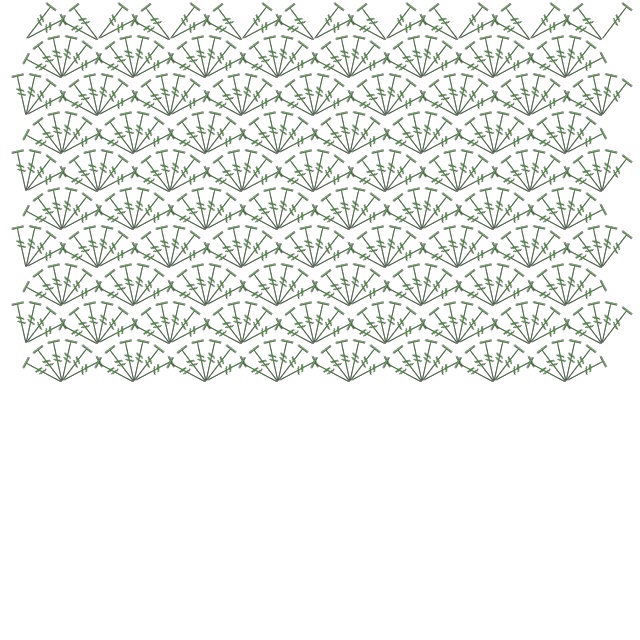fan: (21, 1, 59, 45), (67, 1, 105, 45), (93, 1, 131, 45), (139, 1, 177, 45), (165, 1, 203, 45), (211, 1, 249, 45), (237, 1, 275, 45), (283, 1, 321, 45), (309, 1, 347, 45), (355, 1, 393, 45), (381, 1, 419, 45), (427, 1, 465, 45), (453, 1, 491, 45), (499, 1, 537, 45), (525, 1, 563, 45), (571, 1, 609, 45), (597, 1, 635, 45), (31, 39, 69, 83), (57, 39, 95, 83), (103, 39, 141, 83), (129, 39, 167, 83), (175, 39, 213, 83), (201, 39, 239, 83), (247, 39, 285, 83), (273, 39, 311, 83), (319, 39, 357, 83), (345, 39, 383, 83), (391, 39, 429, 83), (417, 39, 455, 83), (463, 39, 501, 83), (489, 39, 527, 83), (535, 39, 573, 83), (561, 39, 599, 83), (21, 77, 59, 121), (67, 77, 105, 121), (93, 77, 131, 121), (139, 77, 177, 121), (165, 77, 203, 121), (211, 77, 249, 121), (237, 77, 275, 121), (283, 77, 321, 121), (309, 77, 347, 121), (355, 77, 393, 121), (381, 77, 419, 121), (427, 77, 465, 121), (453, 77, 491, 121), (499, 77, 537, 121), (525, 77, 563, 121), (571, 77, 609, 121), (597, 77, 635, 121), (31, 115, 69, 159), (57, 115, 95, 159), (103, 115, 141, 159), (129, 115, 167, 159), (175, 115, 213, 159), (201, 115, 239, 159), (247, 115, 285, 159), (273, 115, 311, 159), (319, 115, 357, 159), (345, 115, 383, 159), (391, 115, 429, 159), (417, 115, 455, 159), (463, 115, 501, 159), (489, 115, 527, 159), (535, 115, 573, 159), (561, 115, 599, 159), (21, 153, 59, 197), (67, 153, 105, 197), (93, 153, 131, 197), (139, 153, 177, 197), (165, 153, 203, 197), (211, 153, 249, 197), (237, 153, 275, 197), (283, 153, 321, 197), (309, 153, 347, 197), (355, 153, 393, 197), (381, 153, 419, 197), (427, 153, 465, 197), (453, 153, 491, 197), (499, 153, 537, 197), (525, 153, 563, 197), (571, 153, 609, 197), (597, 153, 635, 197), (31, 191, 69, 235), (57, 191, 95, 235), (103, 191, 141, 235), (129, 191, 167, 235), (175, 191, 213, 235), (201, 191, 239, 235), (247, 191, 285, 235), (273, 191, 311, 235), (319, 191, 357, 235), (345, 191, 383, 235), (391, 191, 429, 235), (417, 191, 455, 235), (463, 191, 501, 235), (489, 191, 527, 235), (535, 191, 573, 235), (561, 191, 599, 235), (21, 229, 59, 273), (67, 229, 105, 273), (93, 229, 131, 273), (139, 229, 177, 273), (165, 229, 203, 273), (211, 229, 249, 273), (237, 229, 275, 273), (283, 229, 321, 273), (309, 229, 347, 273), (355, 229, 393, 273), (381, 229, 419, 273), (427, 229, 465, 273), (453, 229, 491, 273), (499, 229, 537, 273), (525, 229, 563, 273), (571, 229, 609, 273), (597, 229, 635, 273), (31, 267, 69, 311), (57, 267, 95, 311), (103, 267, 141, 311), (129, 267, 167, 311), (175, 267, 213, 311), (201, 267, 239, 311), (247, 267, 285, 311), (273, 267, 311, 311), (319, 267, 357, 311), (345, 267, 383, 311), (391, 267, 429, 311), (417, 267, 455, 311), (463, 267, 501, 311), (489, 267, 527, 311), (535, 267, 573, 311), (561, 267, 599, 311), (21, 305, 59, 349), (67, 305, 105, 349), (93, 305, 131, 349), (139, 305, 177, 349), (165, 305, 203, 349), (211, 305, 249, 349), (237, 305, 275, 349), (283, 305, 321, 349), (309, 305, 347, 349), (355, 305, 393, 349), (381, 305, 419, 349), (427, 305, 465, 349), (453, 305, 491, 349), (499, 305, 537, 349), (525, 305, 563, 349), (571, 305, 609, 349), (597, 305, 635, 349), (31, 343, 69, 387), (57, 343, 95, 387), (103, 343, 141, 387), (129, 343, 167, 387), (175, 343, 213, 387), (201, 343, 239, 387), (247, 343, 285, 387), (273, 343, 311, 387), (319, 343, 357, 387), (345, 343, 383, 387), (391, 343, 429, 387), (417, 343, 455, 387), (463, 343, 501, 387), (489, 343, 527, 387), (535, 343, 573, 387), (561, 343, 599, 387), (23, 13, 69, 47), (57, 13, 103, 47), (95, 13, 141, 47), (129, 13, 175, 47), (167, 13, 213, 47), (201, 13, 247, 47), (239, 13, 285, 47), (273, 13, 319, 47), (311, 13, 357, 47), (345, 13, 391, 47), (383, 13, 429, 47), (417, 13, 463, 47), (455, 13, 501, 47), (489, 13, 535, 47), (527, 13, 573, 47), (561, 13, 607, 47), (21, 51, 67, 85), (59, 51, 105, 85), (93, 51, 139, 85), (131, 51, 177, 85), (165, 51, 211, 85), (203, 51, 249, 85), (237, 51, 283, 85), (275, 51, 321, 85), (309, 51, 355, 85), (347, 51, 393, 85), (381, 51, 427, 85), (419, 51, 465, 85), (453, 51, 499, 85), (491, 51, 537, 85), (525, 51, 571, 85), (563, 51, 609, 85), (23, 89, 69, 123), (57, 89, 103, 123), (95, 89, 141, 123), (129, 89, 175, 123), (167, 89, 213, 123), (201, 89, 247, 123), (239, 89, 285, 123), (273, 89, 319, 123), (311, 89, 357, 123), (345, 89, 391, 123), (383, 89, 429, 123), (417, 89, 463, 123), (455, 89, 501, 123), (489, 89, 535, 123), (527, 89, 573, 123), (561, 89, 607, 123), (21, 127, 67, 161), (59, 127, 105, 161), (93, 127, 139, 161), (131, 127, 177, 161), (165, 127, 211, 161), (203, 127, 249, 161), (237, 127, 283, 161), (275, 127, 321, 161), (309, 127, 355, 161), (347, 127, 393, 161), (381, 127, 427, 161), (419, 127, 465, 161), (453, 127, 499, 161), (491, 127, 537, 161), (525, 127, 571, 161), (563, 127, 609, 161), (23, 165, 69, 199), (57, 165, 103, 199), (95, 165, 141, 199), (129, 165, 175, 199), (167, 165, 213, 199), (201, 165, 247, 199), (239, 165, 285, 199), (273, 165, 319, 199), (311, 165, 357, 199), (345, 165, 391, 199), (383, 165, 429, 199), (417, 165, 463, 199), (455, 165, 501, 199), (489, 165, 535, 199), (527, 165, 573, 199), (561, 165, 607, 199), (21, 203, 67, 237), (59, 203, 105, 237), (93, 203, 139, 237), (131, 203, 177, 237), (165, 203, 211, 237), (203, 203, 249, 237), (237, 203, 283, 237), (275, 203, 321, 237), (309, 203, 355, 237), (347, 203, 393, 237), (381, 203, 427, 237), (419, 203, 465, 237), (453, 203, 499, 237), (491, 203, 537, 237), (525, 203, 571, 237), (563, 203, 609, 237), (23, 241, 69, 275), (57, 241, 103, 275), (95, 241, 141, 275), (129, 241, 175, 275), (167, 241, 213, 275), (201, 241, 247, 275), (239, 241, 285, 275), (273, 241, 319, 275), (311, 241, 357, 275), (345, 241, 391, 275), (383, 241, 429, 275), (417, 241, 463, 275), (455, 241, 501, 275), (489, 241, 535, 275), (527, 241, 573, 275), (561, 241, 607, 275), (21, 279, 67, 313), (59, 279, 105, 313), (93, 279, 139, 313), (131, 279, 177, 313), (165, 279, 211, 313), (203, 279, 249, 313), (237, 279, 283, 313), (275, 279, 321, 313), (309, 279, 355, 313), (347, 279, 393, 313), (381, 279, 427, 313), (419, 279, 465, 313), (453, 279, 499, 313), (491, 279, 537, 313), (525, 279, 571, 313), (563, 279, 609, 313), (23, 317, 69, 351), (57, 317, 103, 351), (95, 317, 141, 351), (129, 317, 175, 351), (167, 317, 213, 351), (201, 317, 247, 351), (239, 317, 285, 351), (273, 317, 319, 351), (311, 317, 357, 351), (345, 317, 391, 351), (383, 317, 429, 351), (417, 317, 463, 351), (455, 317, 501, 351), (489, 317, 535, 351), (527, 317, 573, 351), (561, 317, 607, 351), (21, 355, 67, 389), (59, 355, 105, 389), (93, 355, 139, 389), (131, 355, 177, 389), (165, 355, 211, 389), (203, 355, 249, 389), (237, 355, 283, 389), (275, 355, 321, 389), (309, 355, 355, 389), (347, 355, 393, 389), (381, 355, 427, 389), (419, 355, 465, 389), (453, 355, 499, 389), (491, 355, 537, 389), (525, 355, 571, 389), (563, 355, 609, 389), (46, 34, 71, 80), (55, 34, 80, 80), (118, 34, 143, 80), (127, 34, 152, 80), (190, 34, 215, 80), (199, 34, 224, 80), (262, 34, 287, 80), (271, 34, 296, 80), (334, 34, 359, 80), (343, 34, 368, 80), (406, 34, 431, 80), (415, 34, 440, 80), (478, 34, 503, 80), (487, 34, 512, 80), (550, 34, 575, 80), (559, 34, 584, 80), (10, 72, 35, 118), (19, 72, 44, 118), (82, 72, 107, 118), (91, 72, 116, 118), (154, 72, 179, 118), (163, 72, 188, 118), (226, 72, 251, 118), (235, 72, 260, 118), (298, 72, 323, 118), (307, 72, 332, 118), (370, 72, 395, 118), (379, 72, 404, 118), (442, 72, 467, 118), (451, 72, 476, 118), (514, 72, 539, 118), (523, 72, 548, 118), (586, 72, 611, 118), (595, 72, 620, 118), (46, 110, 71, 156), (55, 110, 80, 156), (118, 110, 143, 156), (127, 110, 152, 156), (190, 110, 215, 156), (199, 110, 224, 156), (262, 110, 287, 156), (271, 110, 296, 156), (334, 110, 359, 156), (343, 110, 368, 156), (406, 110, 431, 156), (415, 110, 440, 156), (478, 110, 503, 156), (487, 110, 512, 156), (550, 110, 575, 156), (559, 110, 584, 156), (10, 148, 35, 194), (19, 148, 44, 194), (82, 148, 107, 194), (91, 148, 116, 194), (154, 148, 179, 194), (163, 148, 188, 194), (226, 148, 251, 194), (235, 148, 260, 194), (298, 148, 323, 194), (307, 148, 332, 194), (370, 148, 395, 194), (379, 148, 404, 194), (442, 148, 467, 194), (451, 148, 476, 194), (514, 148, 539, 194), (523, 148, 548, 194), (586, 148, 611, 194), (595, 148, 620, 194), (46, 186, 71, 232), (55, 186, 80, 232), (118, 186, 143, 232), (127, 186, 152, 232), (190, 186, 215, 232), (199, 186, 224, 232), (262, 186, 287, 232), (271, 186, 296, 232), (334, 186, 359, 232), (343, 186, 368, 232), (406, 186, 431, 232), (415, 186, 440, 232), (478, 186, 503, 232), (487, 186, 512, 232), (550, 186, 575, 232), (559, 186, 584, 232), (10, 224, 35, 270), (19, 224, 44, 270), (82, 224, 107, 270), (91, 224, 116, 270), (154, 224, 179, 270), (163, 224, 188, 270), (226, 224, 251, 270), (235, 224, 260, 270), (298, 224, 323, 270), (307, 224, 332, 270), (370, 224, 395, 270), (379, 224, 404, 270), (442, 224, 467, 270), (451, 224, 476, 270), (514, 224, 539, 270), (523, 224, 548, 270), (586, 224, 611, 270), (595, 224, 620, 270), (46, 262, 71, 308), (55, 262, 80, 308), (118, 262, 143, 308), (127, 262, 152, 308), (190, 262, 215, 308), (199, 262, 224, 308), (262, 262, 287, 308), (271, 262, 296, 308), (334, 262, 359, 308), (343, 262, 368, 308), (406, 262, 431, 308), (415, 262, 440, 308), (478, 262, 503, 308), (487, 262, 512, 308), (550, 262, 575, 308), (559, 262, 584, 308), (10, 300, 35, 346), (19, 300, 44, 346), (82, 300, 107, 346), (91, 300, 116, 346), (154, 300, 179, 346), (163, 300, 188, 346), (226, 300, 251, 346), (235, 300, 260, 346), (298, 300, 323, 346), (307, 300, 332, 346), (370, 300, 395, 346), (379, 300, 404, 346), (442, 300, 467, 346), (451, 300, 476, 346), (514, 300, 539, 346), (523, 300, 548, 346), (586, 300, 611, 346), (595, 300, 620, 346), (46, 338, 71, 384), (55, 338, 80, 384), (118, 338, 143, 384), (127, 338, 152, 384), (190, 338, 215, 384), (199, 338, 224, 384), (262, 338, 287, 384), (271, 338, 296, 384), (334, 338, 359, 384), (343, 338, 368, 384), (406, 338, 431, 384), (415, 338, 440, 384), (478, 338, 503, 384), (487, 338, 512, 384), (550, 338, 575, 384), (559, 338, 584, 384)
